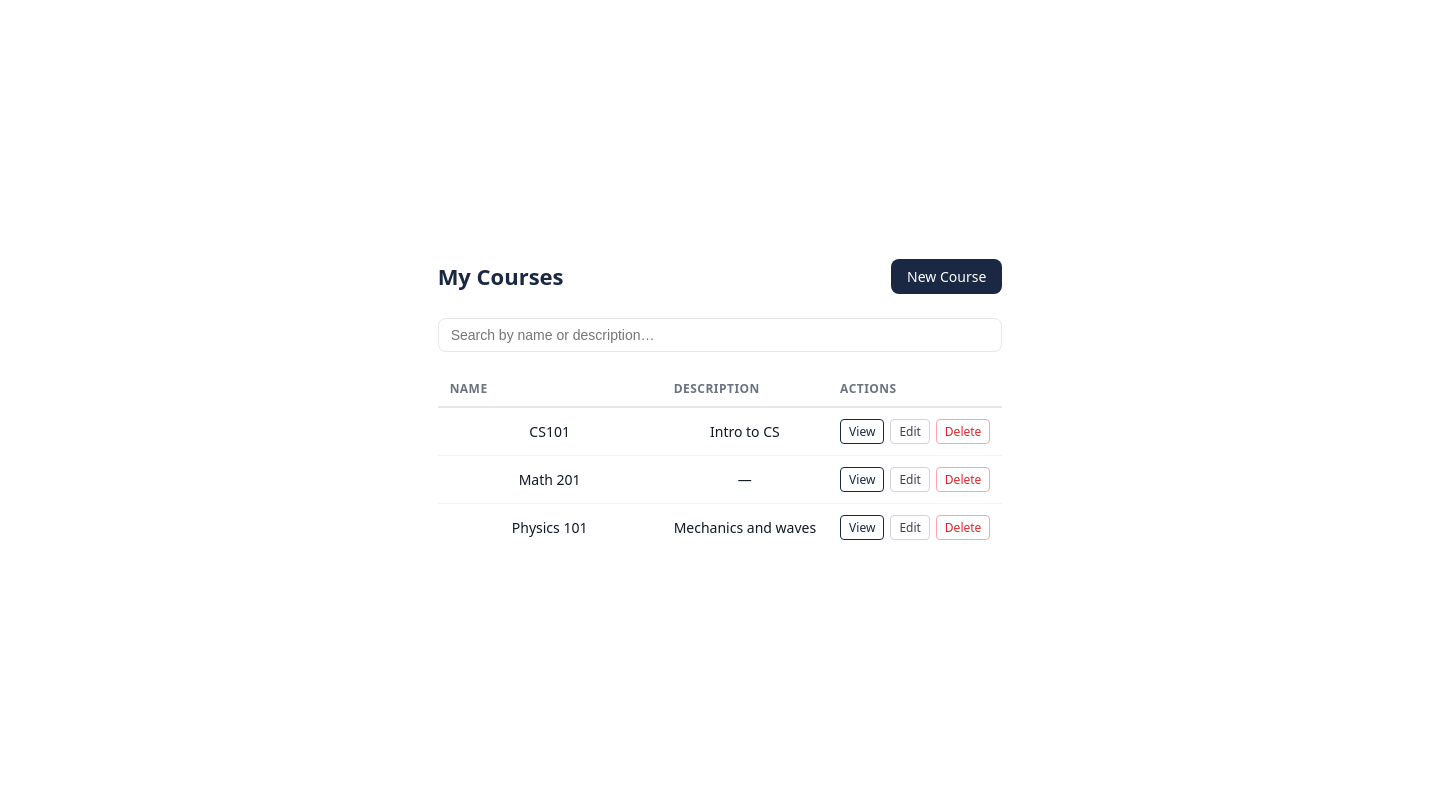
MyCourseView › opens new course modal when New Course is clicked
Click the button with test id "new-course-btn".
click(947, 276)  # box [891,259,1002,294]
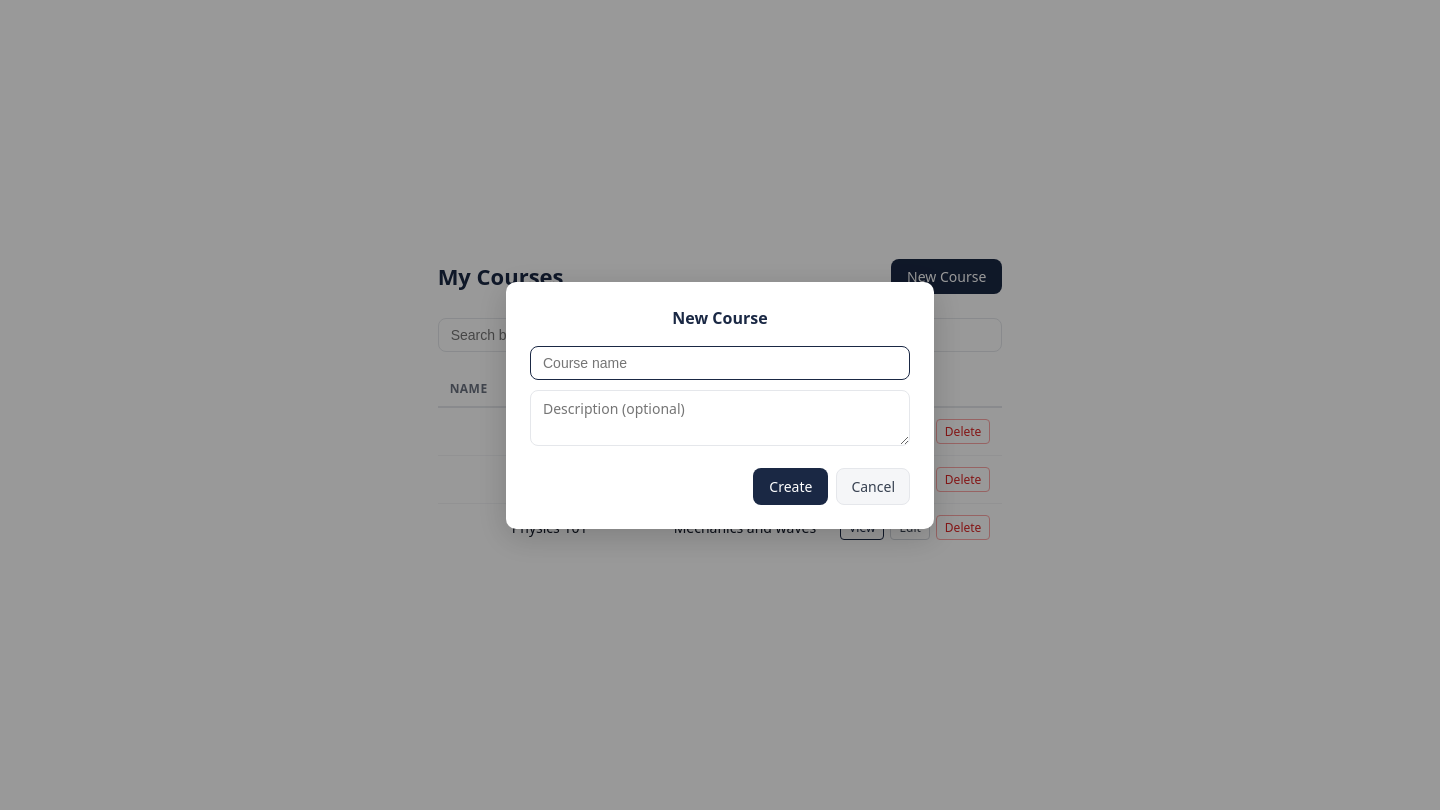
Result: the element with test id "create-modal" is shown
